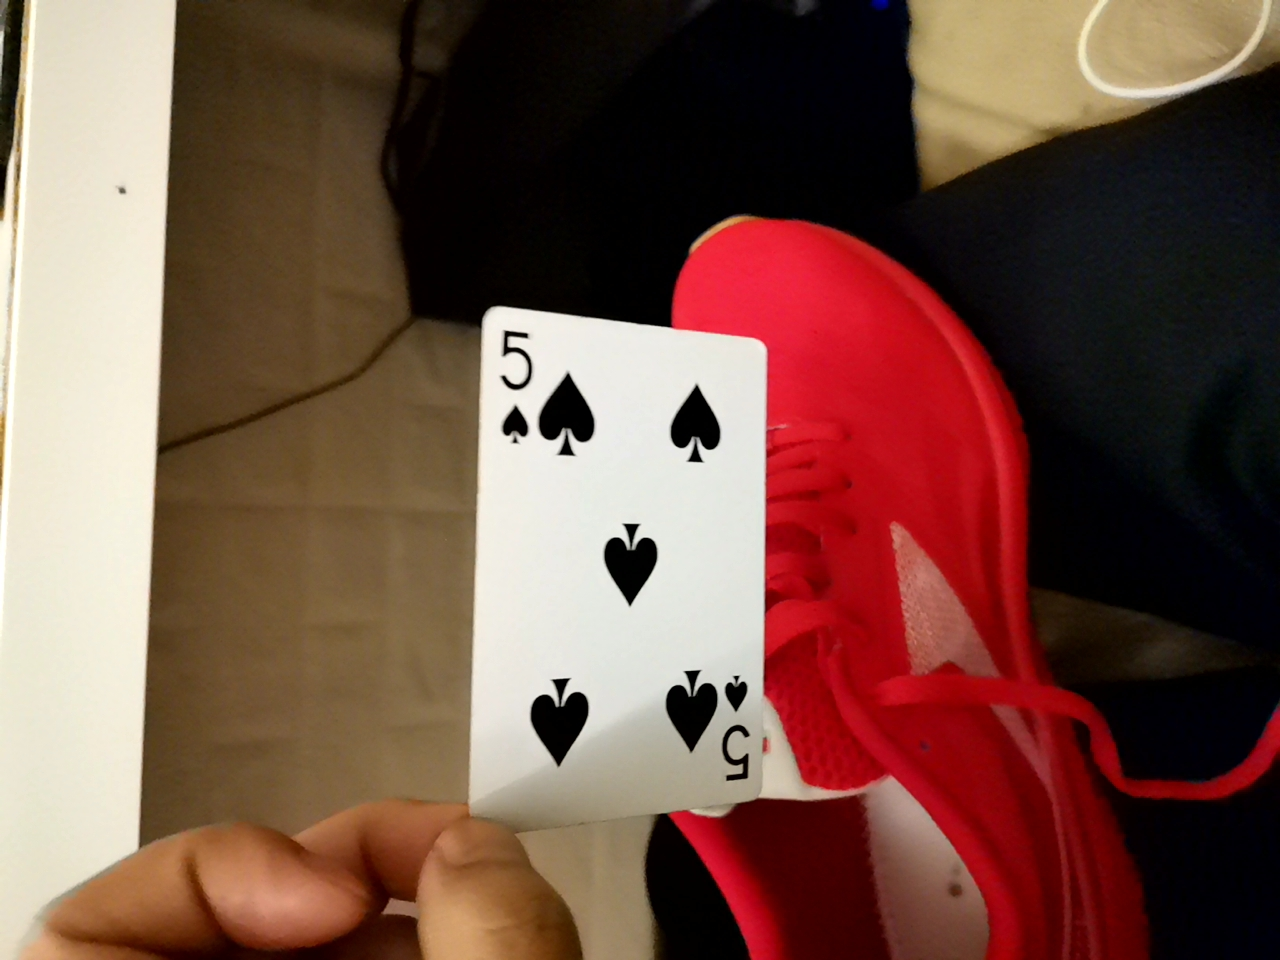ht 5: (479, 301, 765, 835)
